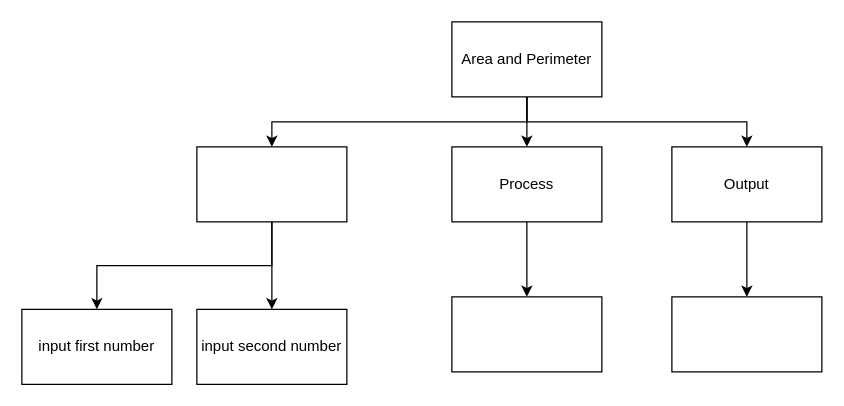
This 844x406 diagram has some shape labels left out. Each missing label, with the centre of its shape:
"calculate: first + second = total" goes at [526,334].
"Input" goes at [271,184].
"show total and calculation" goes at [746,334].
